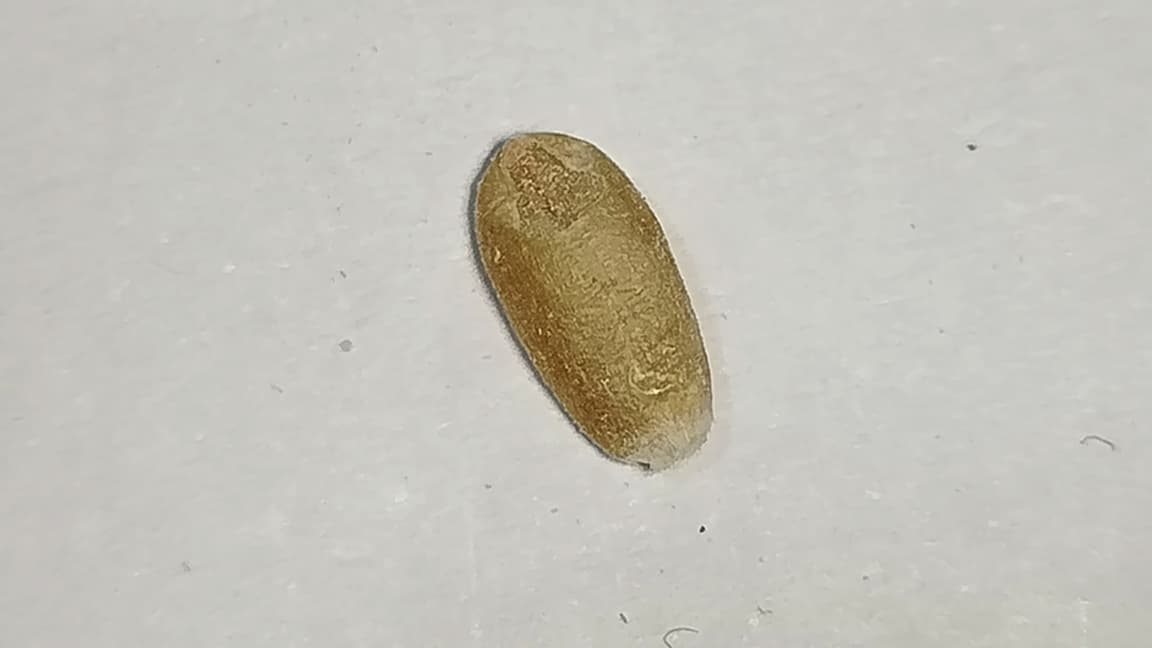damage: (474, 133, 712, 469)
insectdamage: (493, 142, 621, 241)
